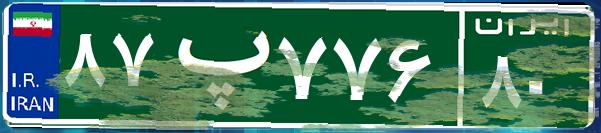0: (525, 38, 570, 115)
6: (385, 28, 445, 110)
7: (273, 28, 330, 110), (330, 28, 385, 110), (110, 28, 158, 105)
8: (57, 26, 110, 107), (475, 38, 525, 113)
پ: (158, 15, 273, 115)
